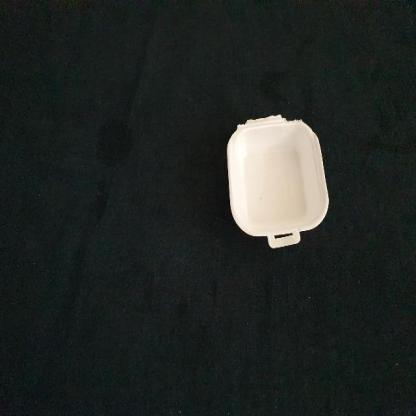Glass Cup: (226, 114, 329, 249), (228, 117, 329, 248)
